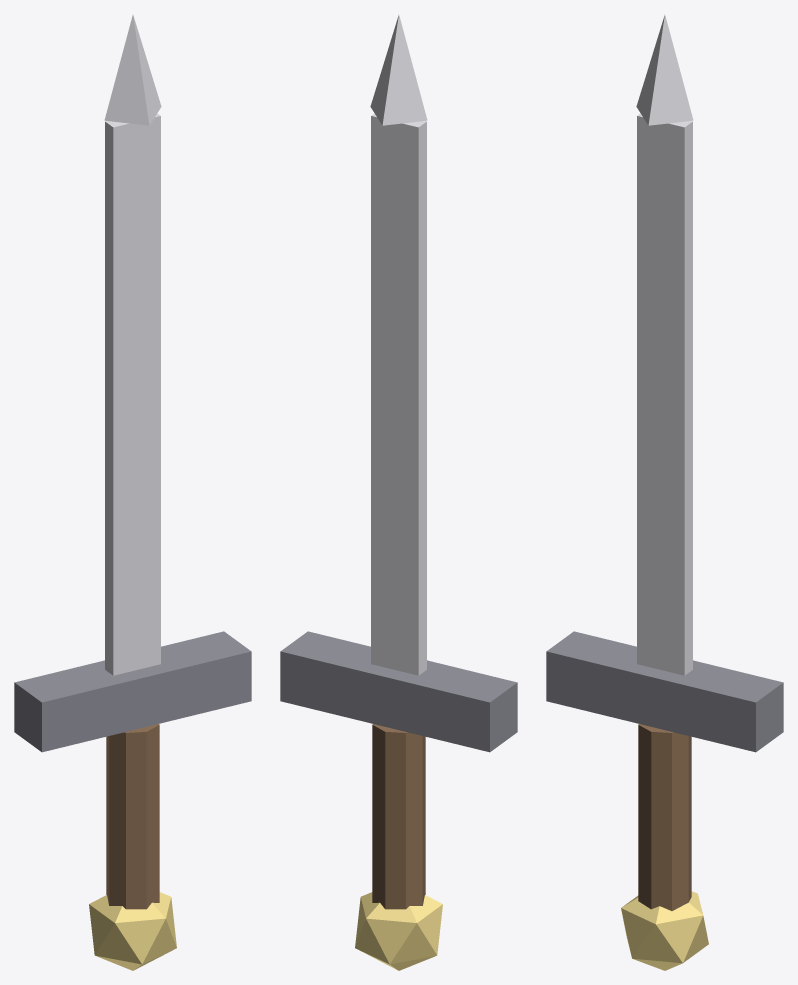
File: wpn_short_sword.glb
3 renders of one model, left to right at view 1: azimuth 30°, elevation 25°; view 2: azimuth 150°, elevation 25°; view 3: azimuth 330°, elevation 25°, orthographic.
Visible parts, largest first — view 1: Weapon_ShortSword; view 2: Weapon_ShortSword; view 3: Weapon_ShortSword.
Part boxes in pixels (x1=…): Weapon_ShortSword: x1=14, y1=15, x2=251, y2=970; Weapon_ShortSword: x1=280, y1=15, x2=517, y2=970; Weapon_ShortSword: x1=546, y1=15, x2=783, y2=970.
Bounding box in the file's own units: 0.22 × 0.96 × 0.0766.
